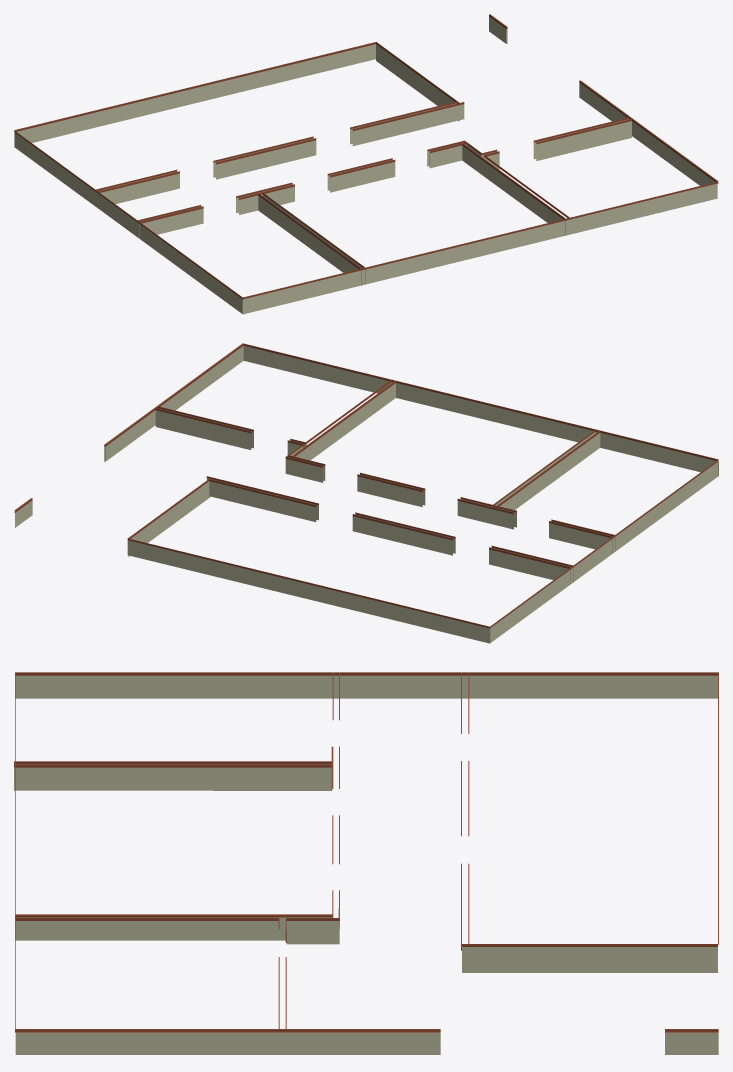
File: Edge001.fbx
The picture shows the model from 3 angles, top to bottom: view 1: azimuth 30°, elevation 25°; view 2: azimuth 150°, elevation 25°; view 3: azimuth 270°, elevation 25°; orthographic projection. The views are drawn at different scales.
Visible parts, largest first — view 1: Edge001; view 2: Edge001; view 3: Edge001.
Boxes of the visible parts, left/top/right/bottom form: Edge001: left=14, top=14, right=718, bottom=314; Edge001: left=14, top=343, right=718, bottom=643; Edge001: left=14, top=672, right=718, bottom=1054.
Bounding box in the file's own units: 2634 × 99.35 × 2195.
